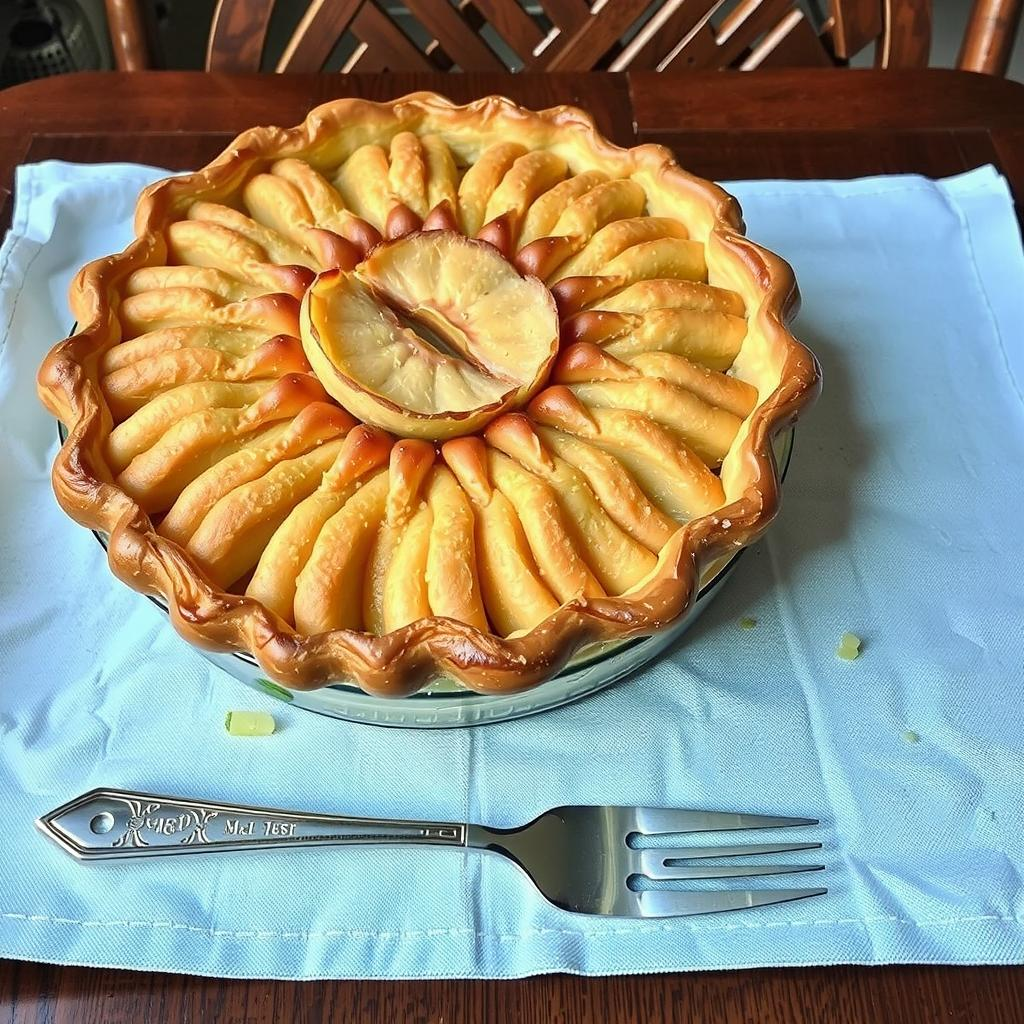pie: (31, 83, 834, 706)
